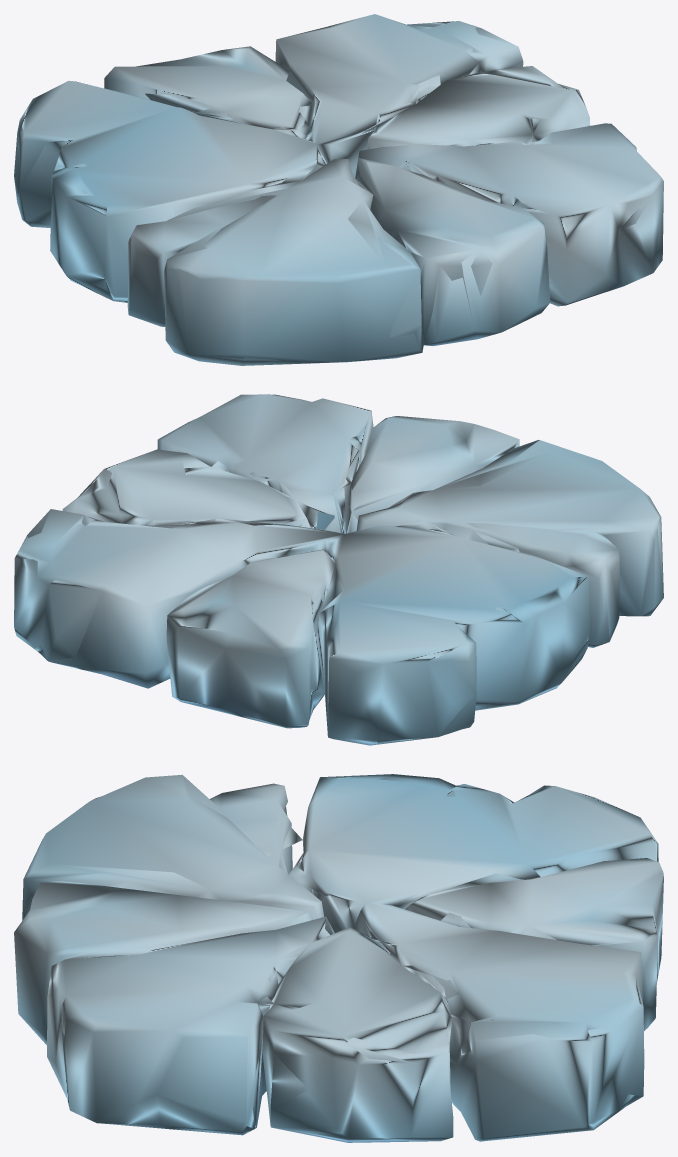
Rendered from gen3d-ice-floe-lod1.glb.
The picture shows the model from 3 angles, top to bottom: view 1: azimuth 30°, elevation 25°; view 2: azimuth 150°, elevation 25°; view 3: azimuth 270°, elevation 25°; orthographic projection. The views are drawn at different scales.
Visible parts, largest first — view 1: part_0; view 2: part_0; view 3: part_0.
Part boxes in pixels (<box>): part_0: <box>14,14,663,365</box>; part_0: <box>14,394,663,745</box>; part_0: <box>14,774,663,1142</box>.
Bounding box in the file's own units: 5.65 × 0.9975 × 5.64.
